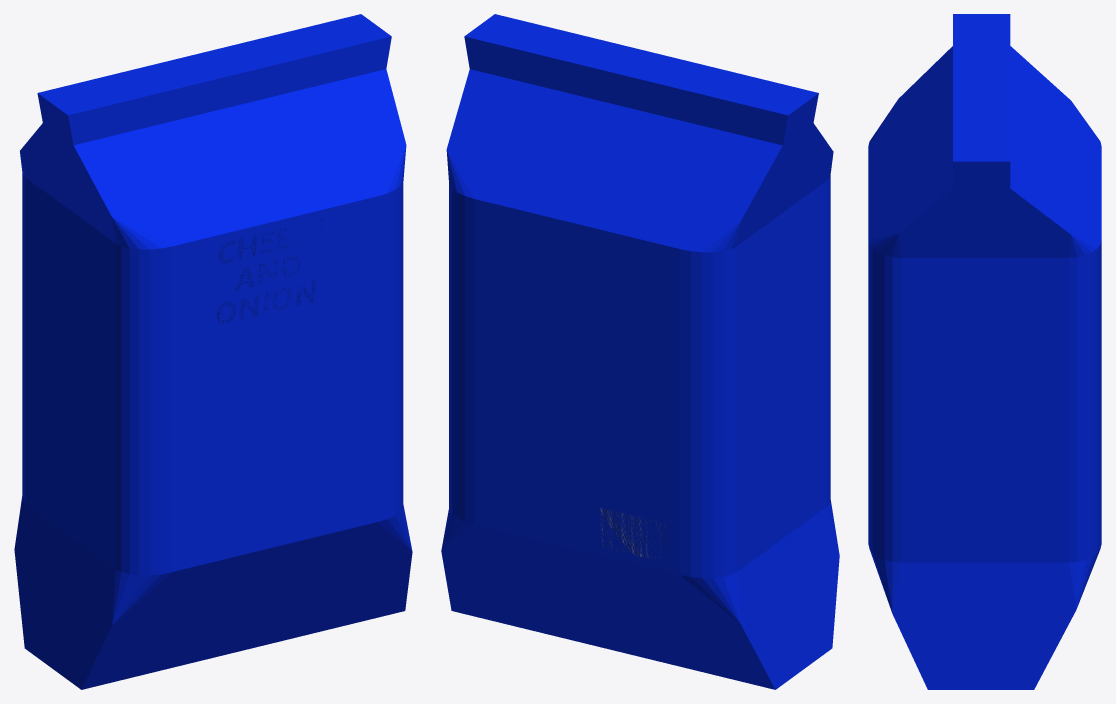
The model's file is cheese_and_onion.glb.
3 renders of one model, left to right at view 1: azimuth 30°, elevation 25°; view 2: azimuth 150°, elevation 25°; view 3: azimuth 270°, elevation 25°, orthographic. The views are drawn at different scales.
Visible parts, largest first — view 1: Cube; view 2: Cube; view 3: Cube.
Part boxes in pixels (left/top/right/bottom): Cube: left=14, top=14, right=412, bottom=689; Cube: left=441, top=14, right=839, bottom=689; Cube: left=868, top=14, right=1101, bottom=689.
Size of the model in its own units: 0.3 by 0.5 by 0.2.
Materials: 1 (1 with a texture image).
